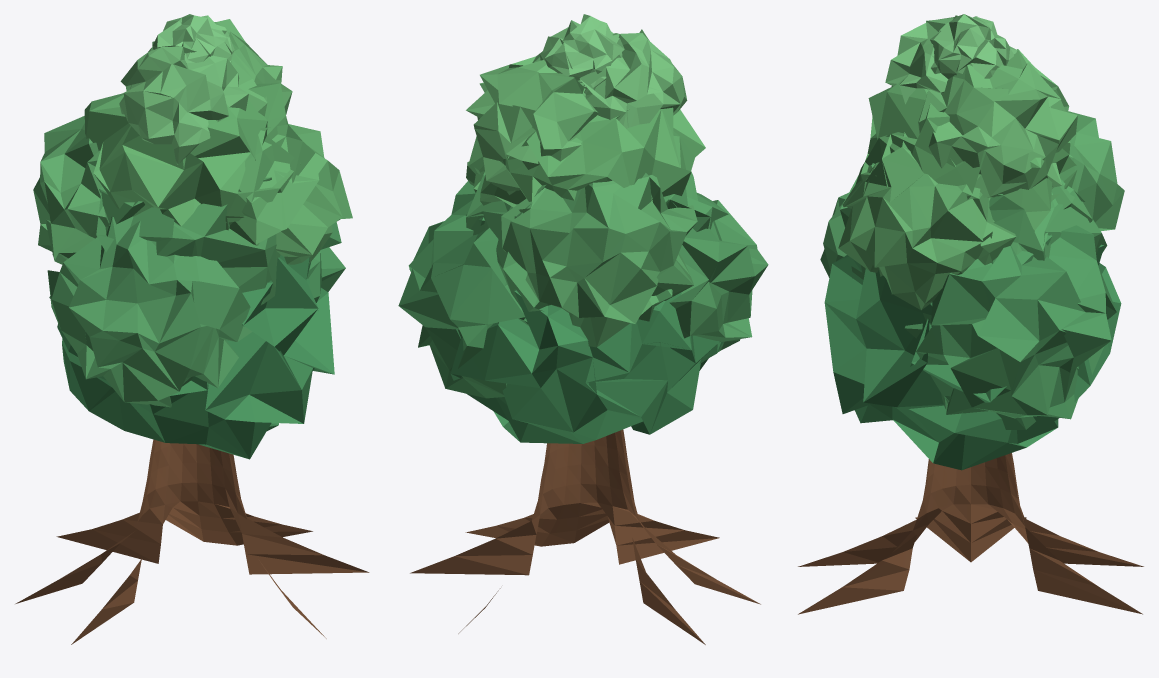
The model's file is giant_redwood.glb.
3 views of the same model, side by side, from view 1: azimuth 30°, elevation 25°; view 2: azimuth 150°, elevation 25°; view 3: azimuth 270°, elevation 25° (orthographic).
Parts seen in each view (by area): view 1: GiantRedwoodModel; view 2: GiantRedwoodModel; view 3: GiantRedwoodModel.
Part boxes in pixels (x1,y1,x2,y2): GiantRedwoodModel: (15, 14, 369, 644); GiantRedwoodModel: (398, 14, 768, 644); GiantRedwoodModel: (798, 14, 1143, 614).
Size of the model in its own units: 16.93 by 30.59 by 16.74.
